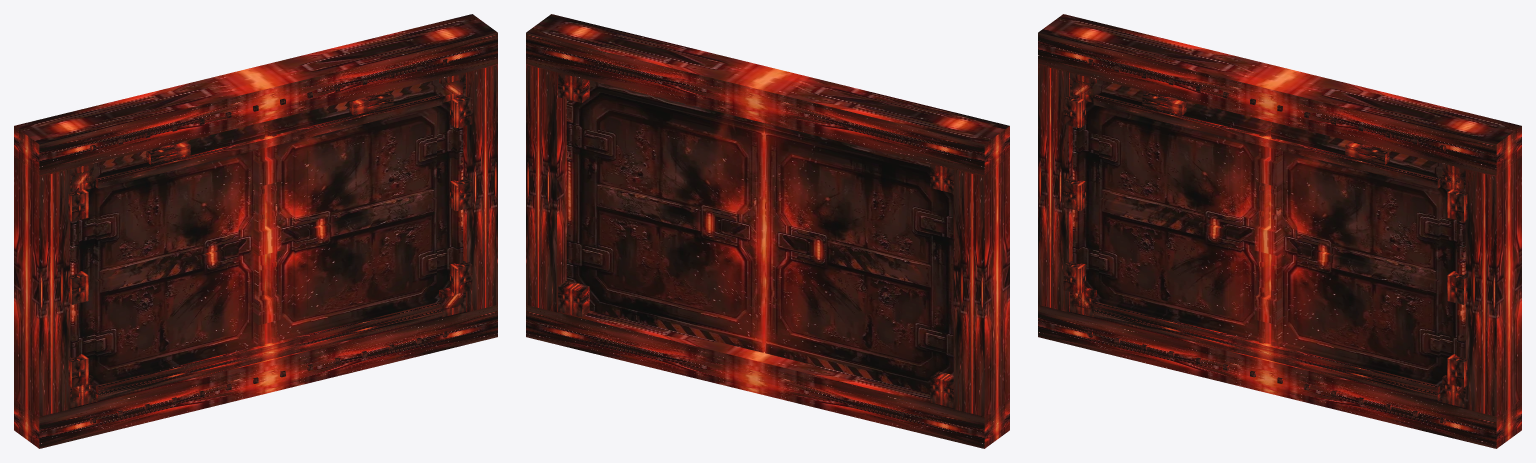
Rendered from hangar_kapi_kara.glb.
3 views of the same model, side by side, from view 1: azimuth 30°, elevation 25°; view 2: azimuth 150°, elevation 25°; view 3: azimuth 330°, elevation 25° (orthographic).
Parts seen in each view (by area): view 1: FRAME, DOOR_R, DOOR_L; view 2: FRAME, DOOR_R, DOOR_L; view 3: FRAME, DOOR_L, DOOR_R.
Boxes of the visible parts, x1=… form: FRAME: x1=14, y1=14, x2=497, y2=448; DOOR_R: x1=264, y1=79, x2=463, y2=343; DOOR_L: x1=70, y1=122, x2=270, y2=398; FRAME: x1=526, y1=14, x2=1009, y2=448; DOOR_R: x1=566, y1=80, x2=764, y2=352; DOOR_L: x1=765, y1=123, x2=953, y2=393; FRAME: x1=1038, y1=14, x2=1521, y2=448; DOOR_L: x1=1072, y1=79, x2=1271, y2=343; DOOR_R: x1=1265, y1=122, x2=1465, y2=398.
Bounding box in the file's own units: 10.4 × 6.6 × 1.14.
1 material, 1 textured.
